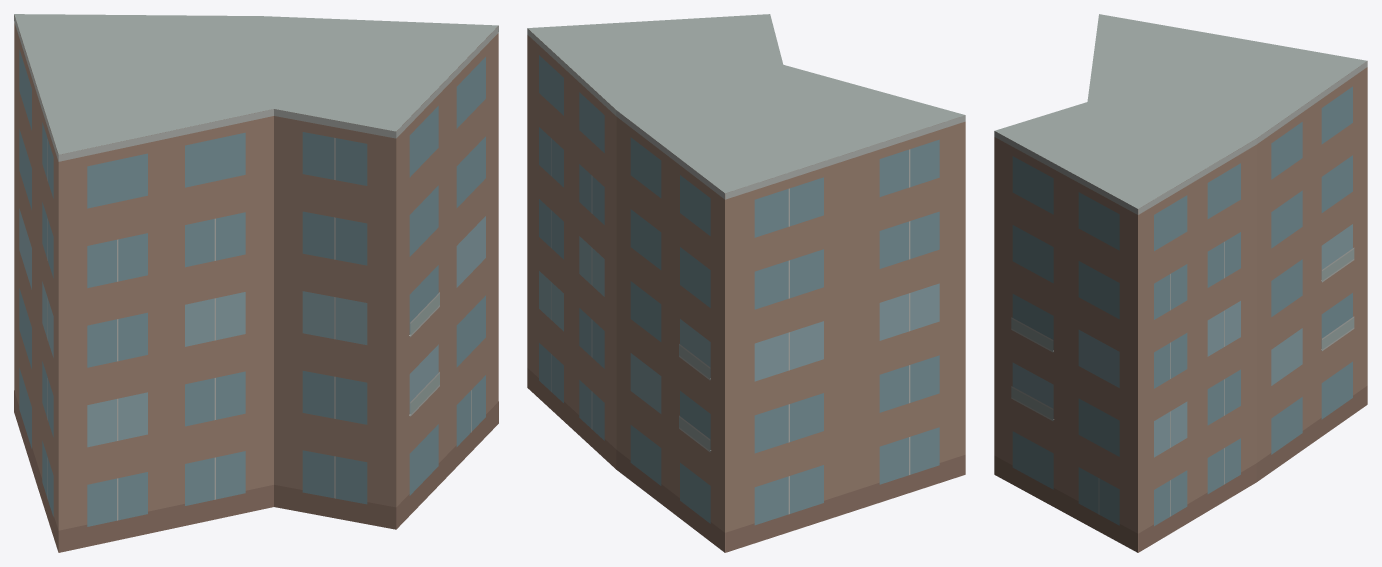
The model's file is survey-upis-32652158.glb.
3 renders of one model, left to right at view 1: azimuth 30°, elevation 25°; view 2: azimuth 150°, elevation 25°; view 3: azimuth 270°, elevation 25°, orthographic. The views are drawn at different scales.
Parts seen in each view (by area): view 1: survey-upis-32652158.tmp; view 2: survey-upis-32652158.tmp; view 3: survey-upis-32652158.tmp.
Boxes of the visible parts, x1,y1,x2,y2 form: survey-upis-32652158.tmp: [14, 14, 498, 552]; survey-upis-32652158.tmp: [527, 14, 965, 552]; survey-upis-32652158.tmp: [994, 14, 1367, 552].
Size of the model in its own units: 16.86 by 13.85 by 13.63.
